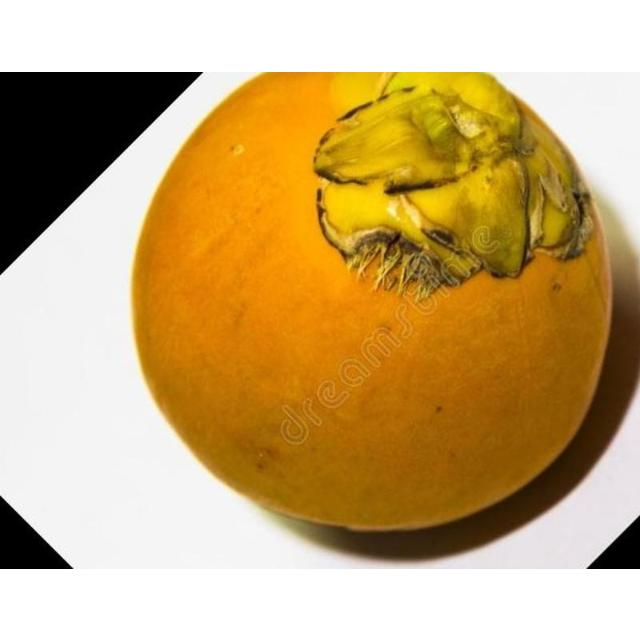good: (128, 71, 614, 535)
